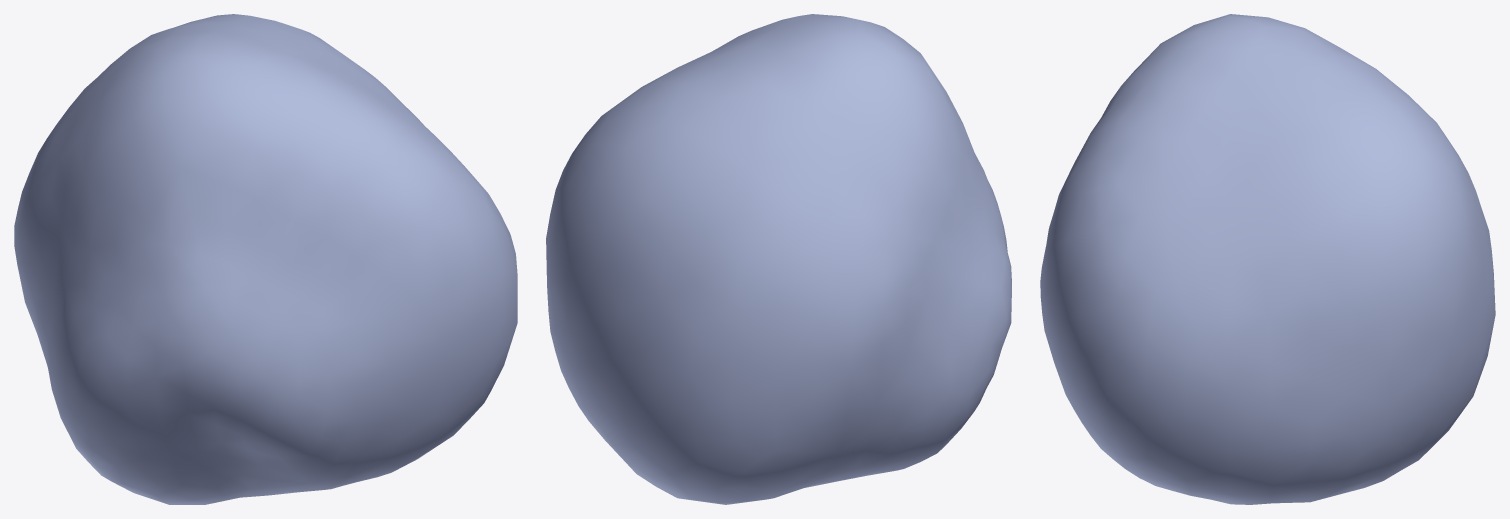
The model's file is raw-stone.glb.
3 renders of one model, left to right at view 1: azimuth 30°, elevation 25°; view 2: azimuth 150°, elevation 25°; view 3: azimuth 270°, elevation 25°, orthographic. The views are drawn at different scales.
Visible parts, largest first — view 1: RawStone; view 2: RawStone; view 3: RawStone.
Boxes of the visible parts, <box> form: RawStone: <box>14,14,517,504</box>; RawStone: <box>546,14,1011,504</box>; RawStone: <box>1040,14,1495,504</box>.
Bounding box in the file's own units: 1.97 × 2 × 2.
